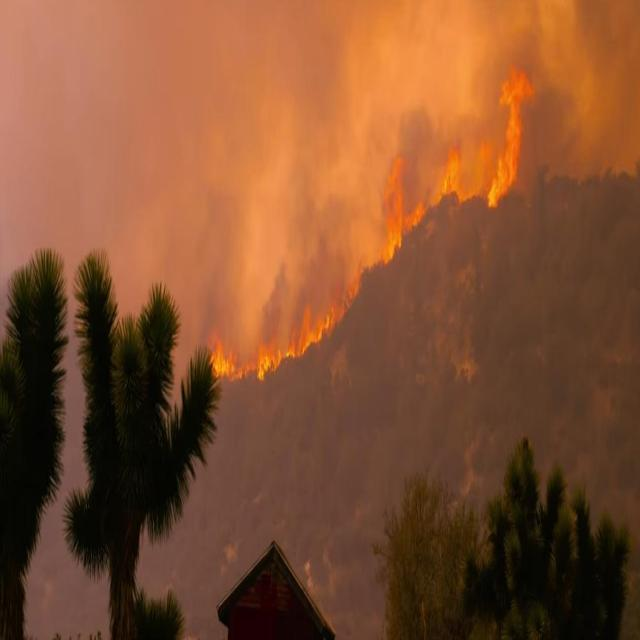Fire: (209, 64, 533, 382)
Smoke: (197, 1, 640, 348)
